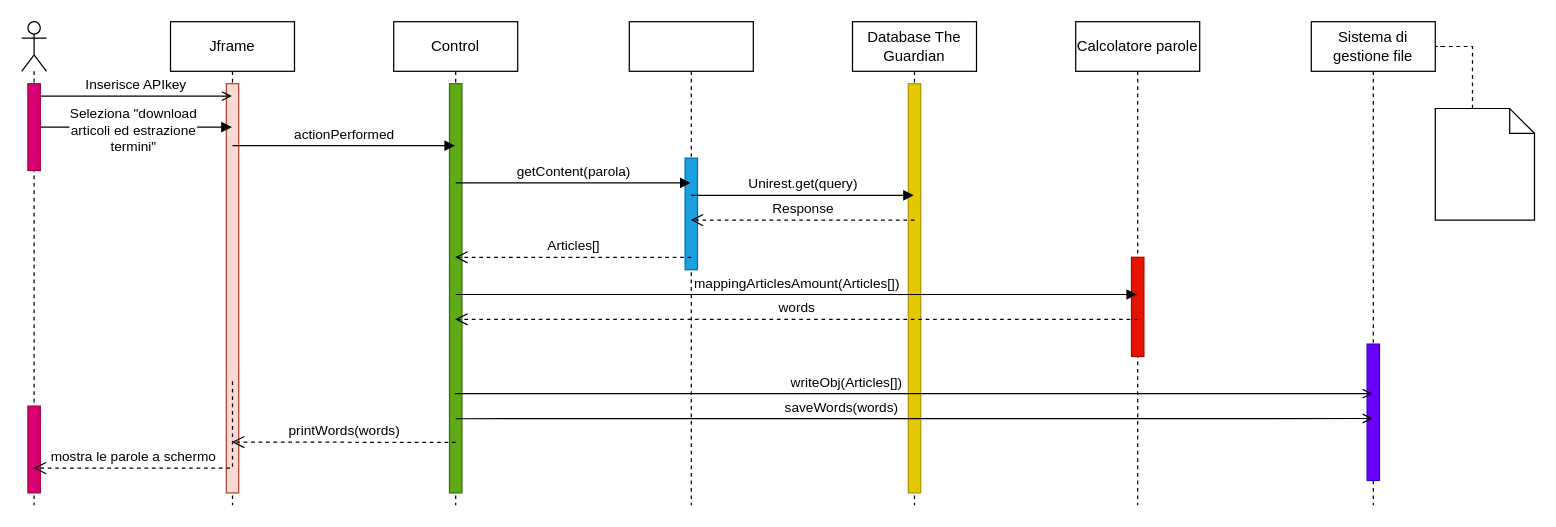
This 1556x527 diagram has some shape labels left out. The shapes that lost their labels are listed below. From the top down, each one's centre as x and y in pixels, then its label:
At (1484,163): "Comprende: TxtManager, Serializzatore".
At (690,262): "Guardian API".
